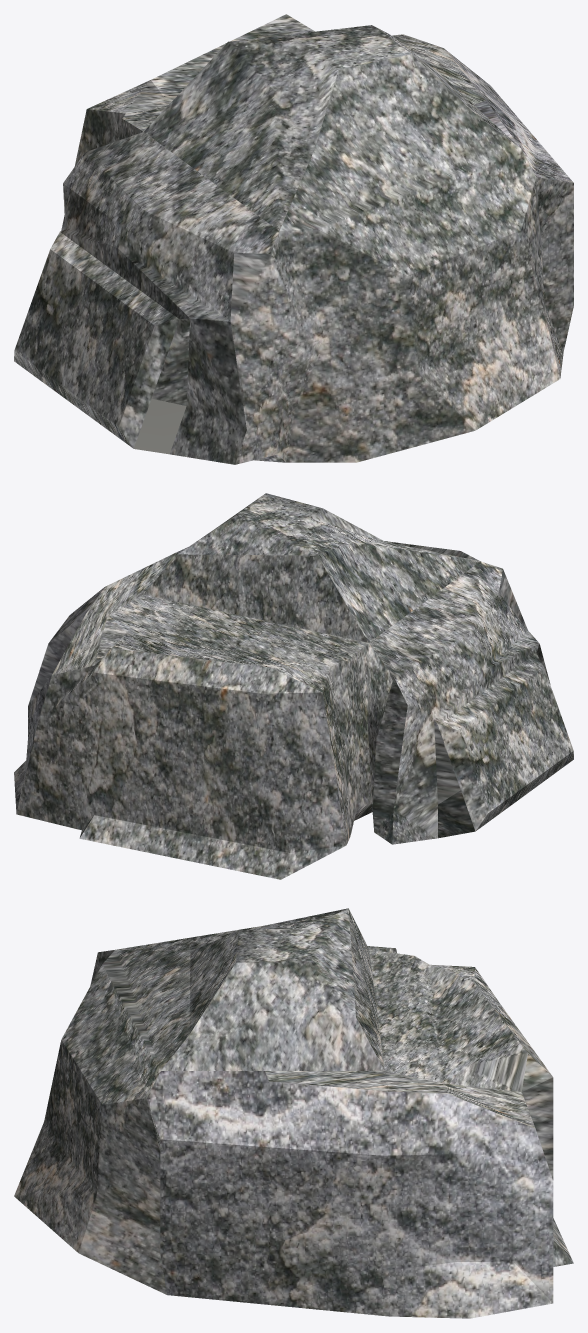
Rendered from rock2.FBX.
3 views of the same model, one above another, from view 1: azimuth 30°, elevation 25°; view 2: azimuth 150°, elevation 25°; view 3: azimuth 270°, elevation 25° (orthographic). The views are drawn at different scales.
Parts seen in each view (by area): view 1: pCube1; view 2: pCube1; view 3: pCube1.
Boxes of the visible parts, left/top/right/bottom form: pCube1: left=14, top=14, right=573, bottom=464; pCube1: left=14, top=493, right=573, bottom=879; pCube1: left=14, top=908, right=573, bottom=1318.
Size of the model in its own units: 4.22 by 2.44 by 4.25.
1 material, 1 textured.
